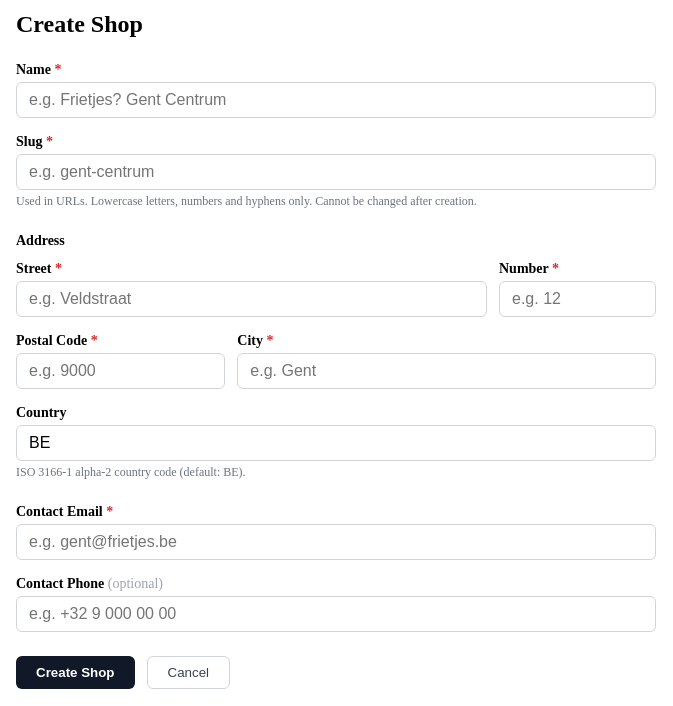
Test: ShopCreate › typing in the name field auto-derives the slug value
In the field labelled "Name *": (336, 100) [16,82,656,118], type "Gent Centrum"
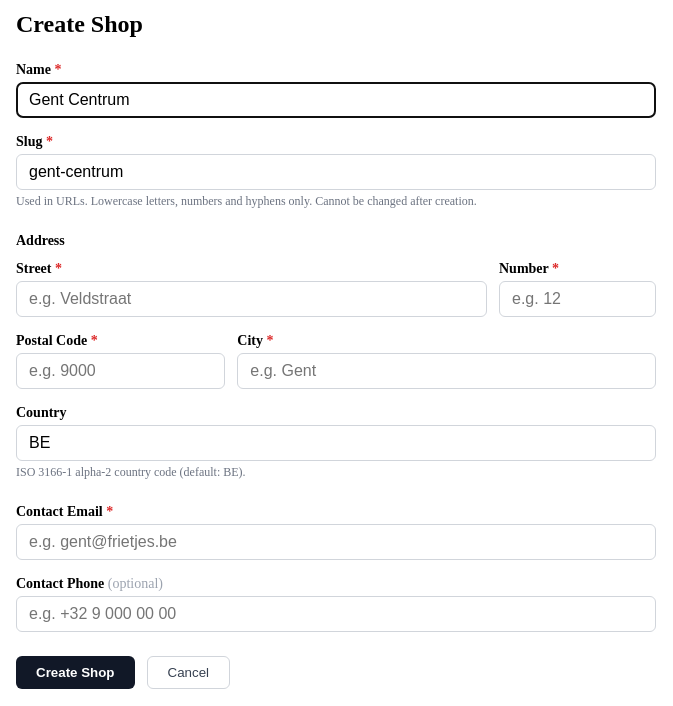
Expected: the field labelled "Slug *" holds "gent-centrum", [16,154,656,190]
